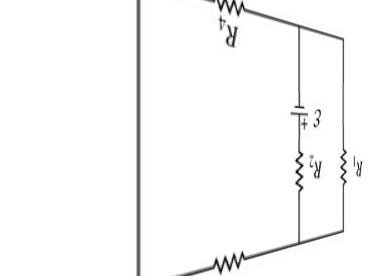resistor: (203, 242, 249, 272), (288, 143, 308, 194), (334, 142, 349, 191), (204, 0, 246, 17)
